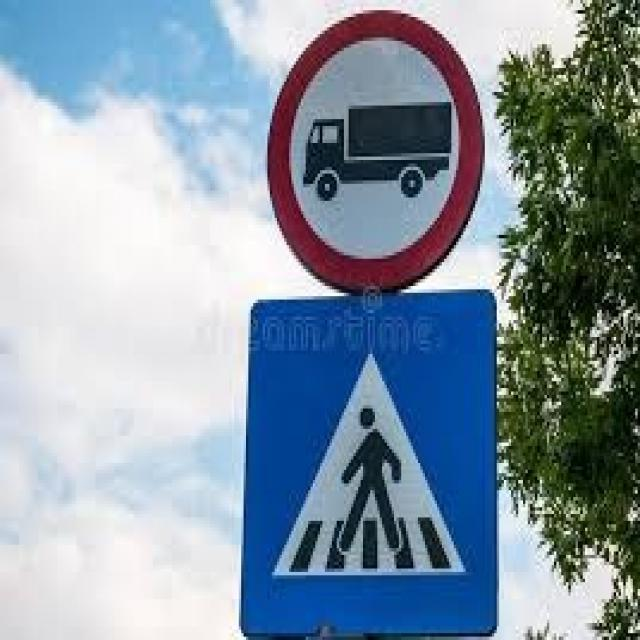crosswalk: (221, 292, 514, 640)
do_not_enter: (264, 5, 485, 289)
